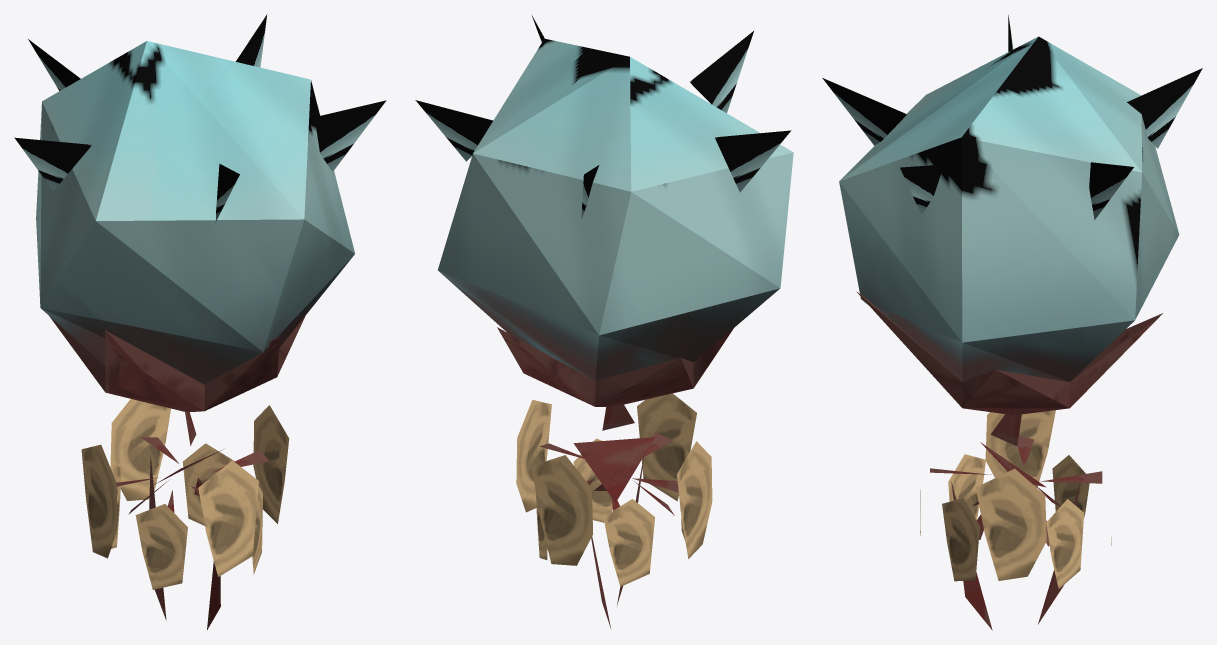
Rendered from MonitorLOD.fbx.
The picture shows the model from 3 angles, left to right: view 1: azimuth 30°, elevation 25°; view 2: azimuth 150°, elevation 25°; view 3: azimuth 270°, elevation 25°; orthographic projection.
Visible parts, largest first — view 1: Icosphere; view 2: Icosphere; view 3: Icosphere.
Part boxes in pixels (<box>): Icosphere: <box>14,14,386,629</box>; Icosphere: <box>415,16,793,629</box>; Icosphere: <box>822,15,1202,630</box>.
Bounding box in the file's own units: 209 × 368 × 219.
